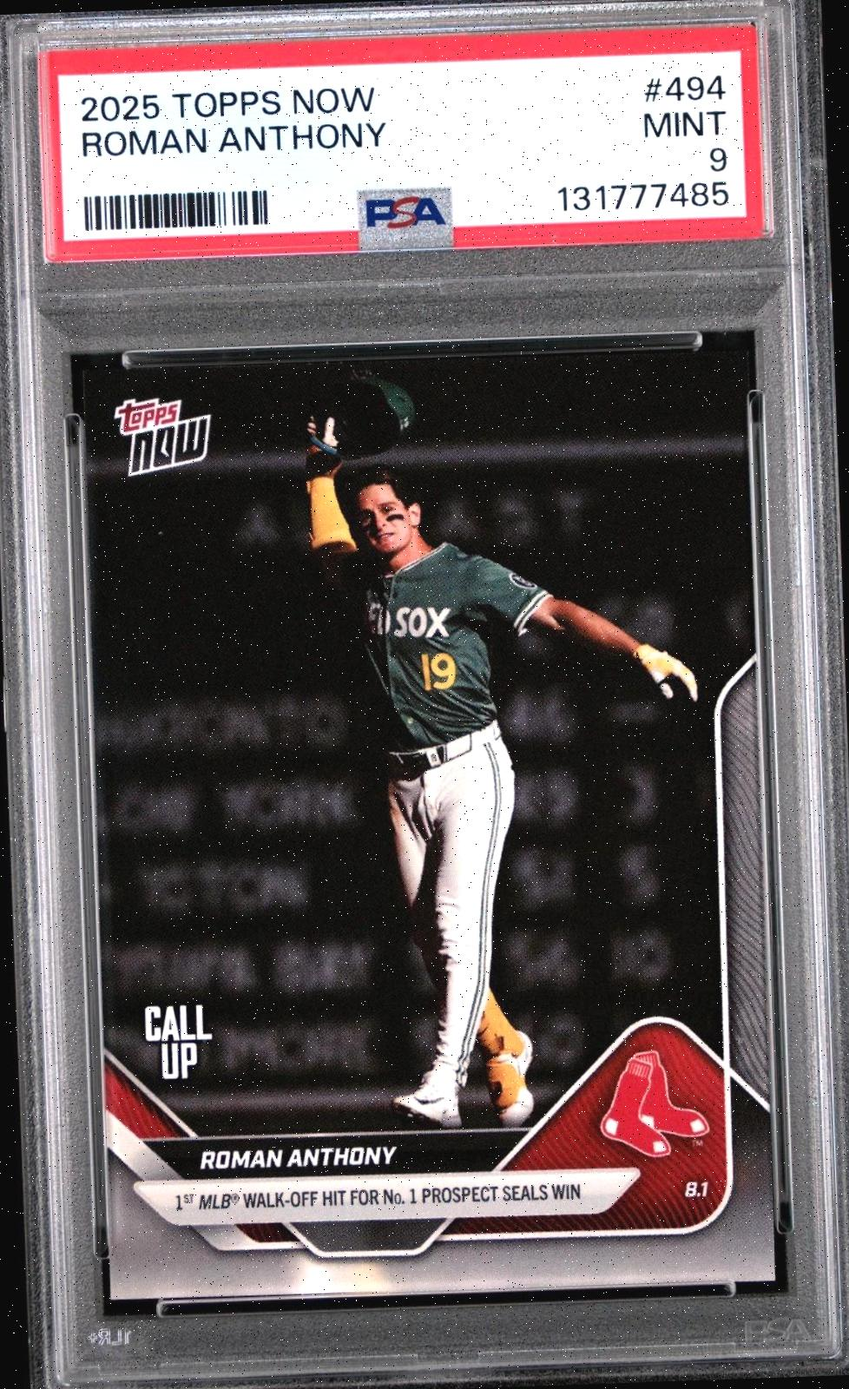card-2UtV: (82, 349, 776, 1301)
